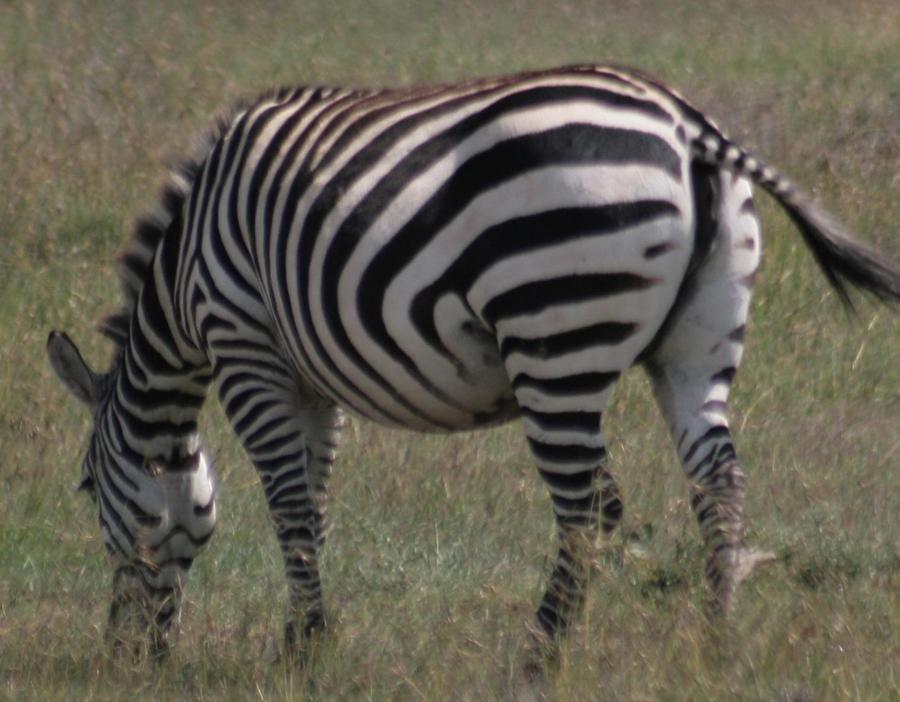zebra_plains: (141, 74, 647, 448)
